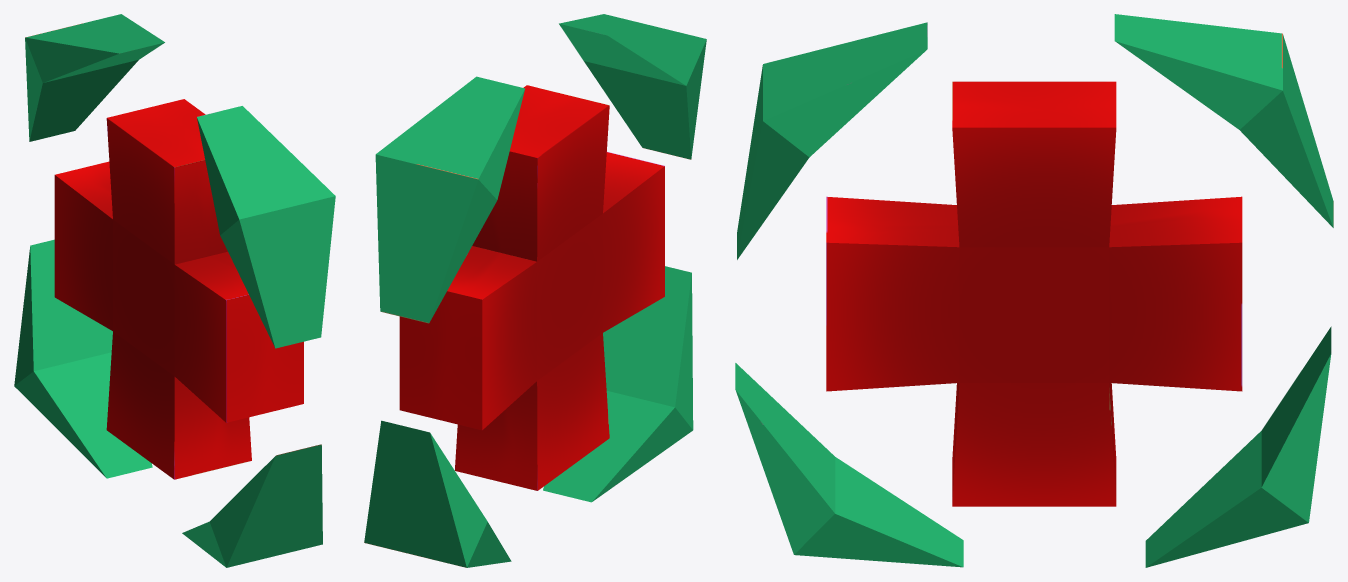
The model's file is health.fbx.
3 views of the same model, side by side, from view 1: azimuth 30°, elevation 25°; view 2: azimuth 150°, elevation 25°; view 3: azimuth 270°, elevation 25° (orthographic). The views are drawn at different scales.
Visible parts, largest first — view 1: pCube17; view 2: pCube17; view 3: pCube17.
Boxes of the visible parts, x1,y1,x2,y2 form: pCube17: (14,14,335,567); pCube17: (364,14,706,567); pCube17: (735,14,1333,567).
Bounding box in the file's own units: 0.6056 × 2.61 × 2.68.
1 material, 1 textured.
